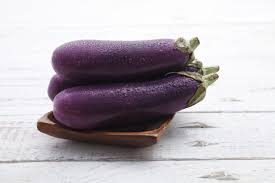eggplant: (51, 68, 222, 132), (43, 29, 222, 84)
